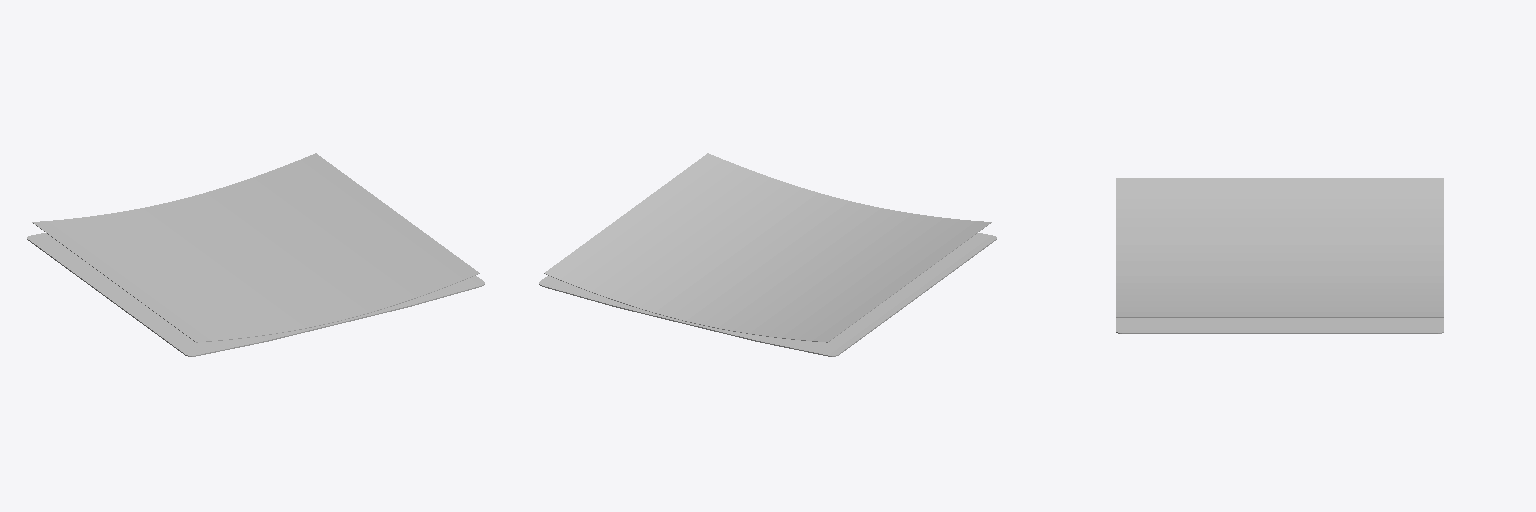
The model's file is folder.obj.
3 views of the same model, side by side, from view 1: azimuth 30°, elevation 25°; view 2: azimuth 150°, elevation 25°; view 3: azimuth 270°, elevation 25° (orthographic).
Visible parts, largest first — view 1: Cube; view 2: Cube; view 3: Cube.
Part boxes in pixels (x1,y1,x2,y2): Cube: (27, 153, 484, 356); Cube: (539, 153, 996, 356); Cube: (1116, 178, 1443, 333).
Bounding box in the file's own units: 2.1 × 0.1142 × 2.